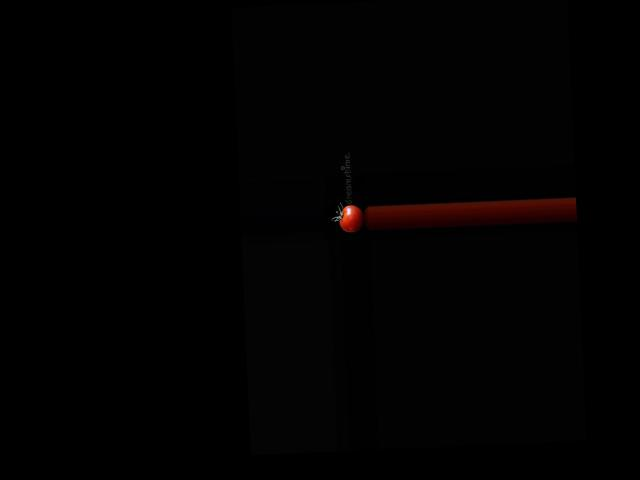tomato: (339, 204, 363, 232)
